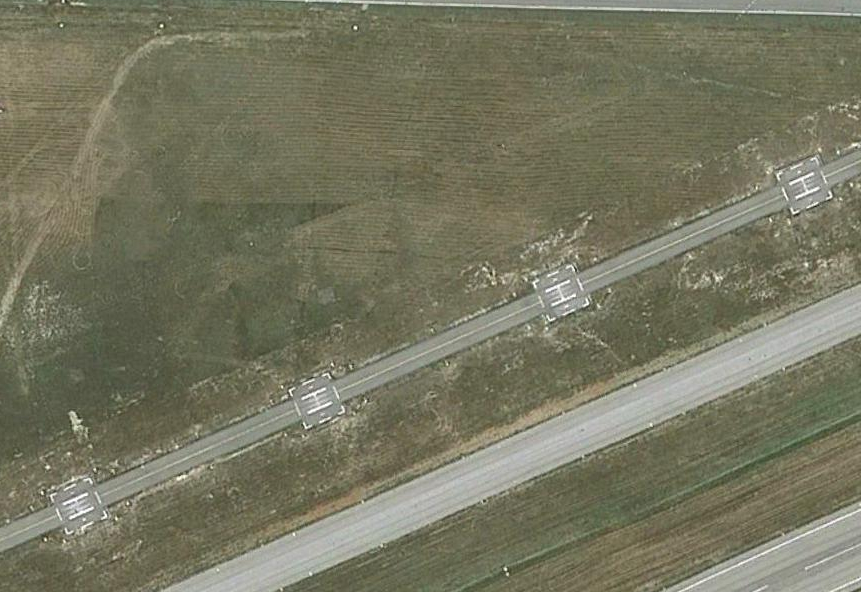heliport: (291, 378, 339, 419), (782, 168, 828, 203), (57, 491, 100, 523), (541, 275, 581, 309)
